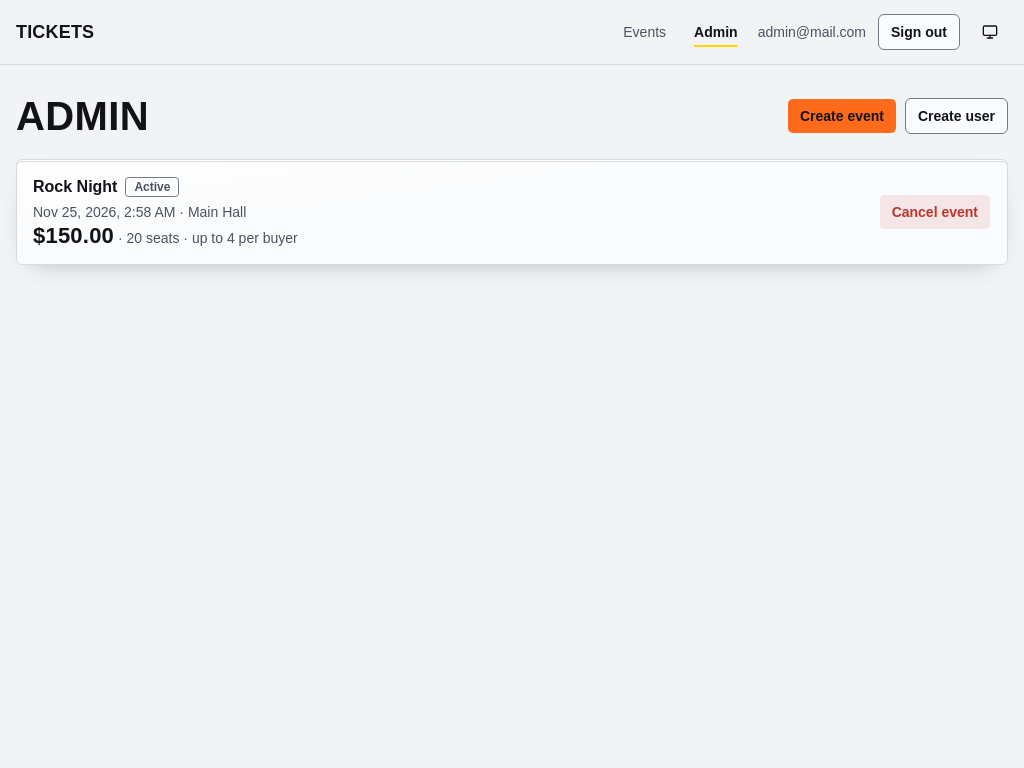
Test: CancelEvent › uses the singular for one reservation and one ticket
Click the button with aria-label "Cancel event Rock Night".
click(935, 212)  # box [879, 194, 991, 230]
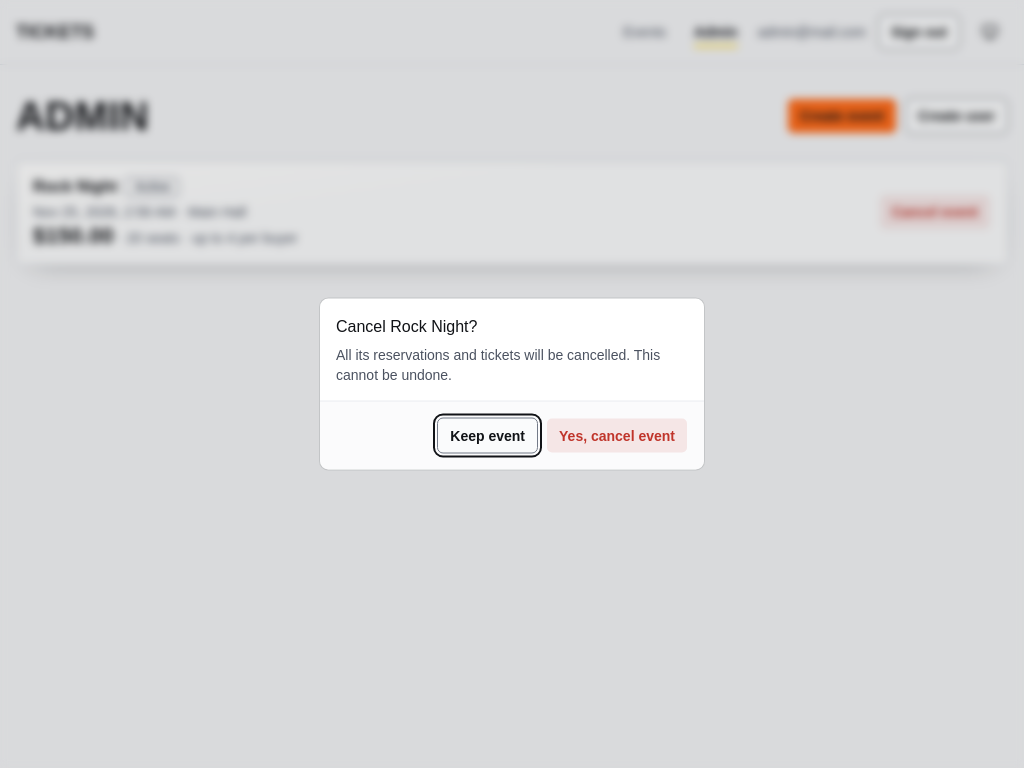
Click the button "Yes, cancel event".
click(617, 436)  # box [546, 418, 688, 454]
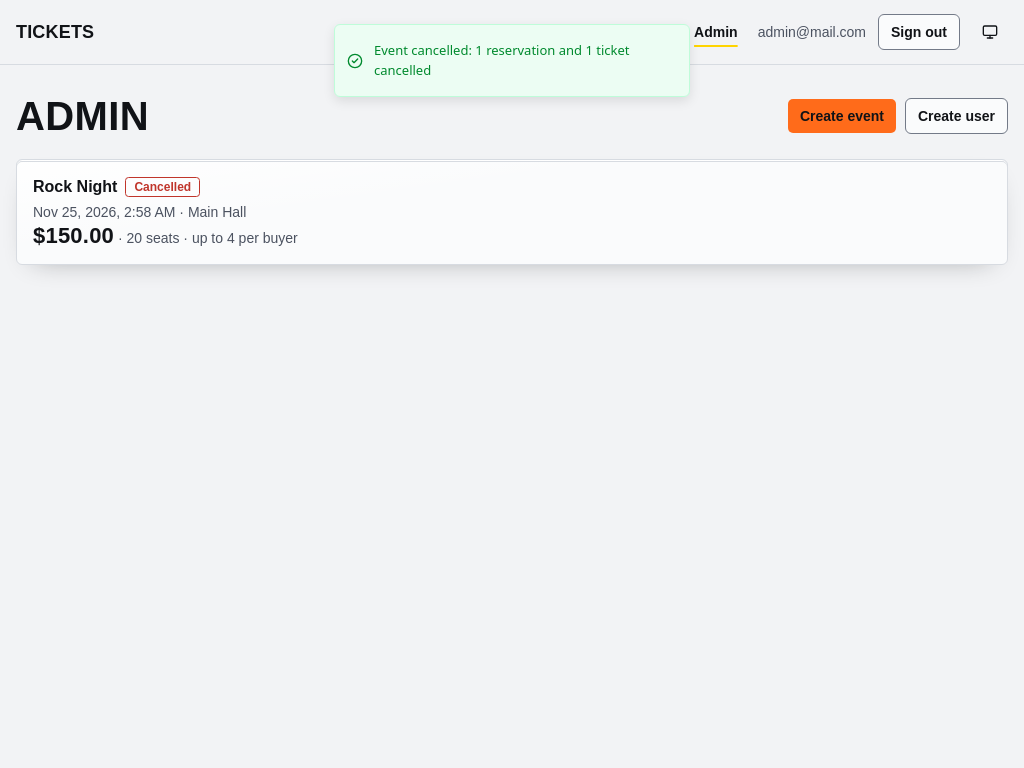
expect the text "Event cancelled: 1 reservation and 1 ticket cancelled" is shown: met, box [374, 41, 673, 80]
